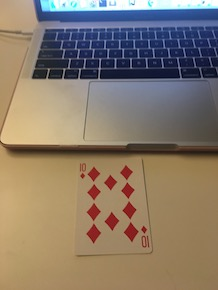TenOfDiamonds: (67, 153, 155, 258)
